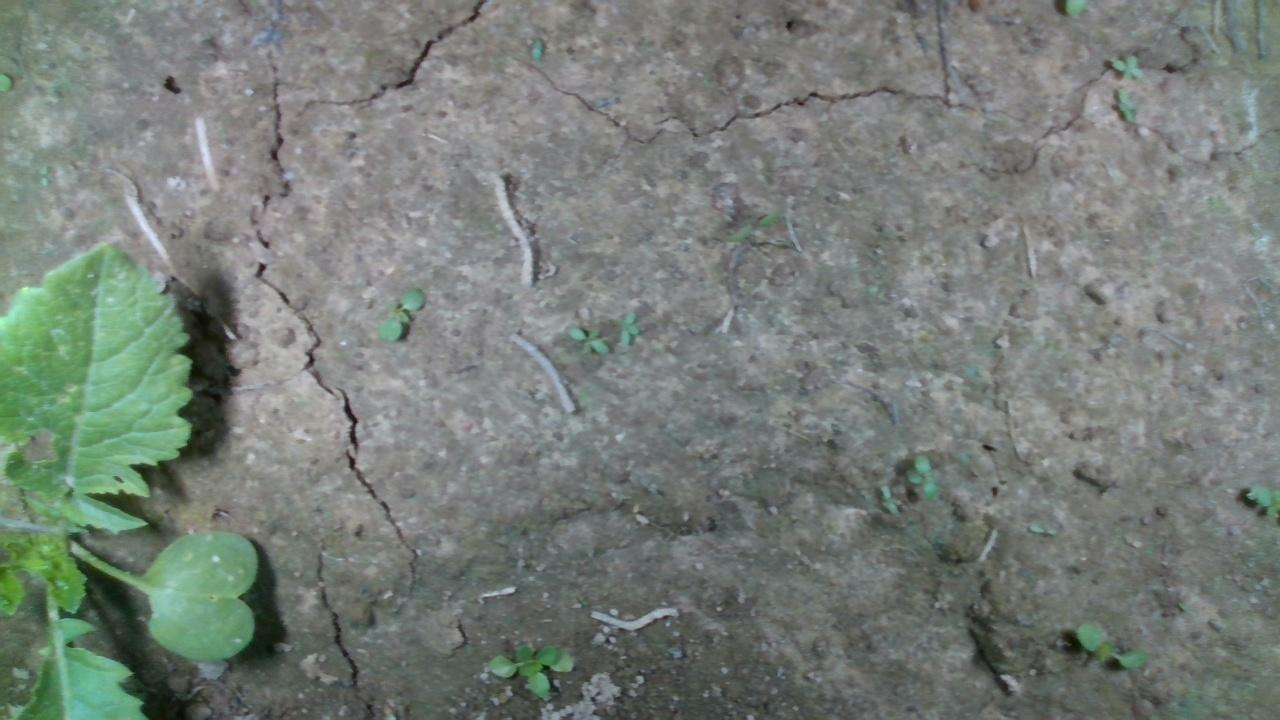weed: (1073, 618, 1150, 669), (377, 286, 424, 341), (902, 449, 938, 495), (1108, 50, 1147, 85), (565, 325, 609, 354), (1112, 84, 1136, 123), (617, 310, 639, 346), (880, 483, 901, 514)
